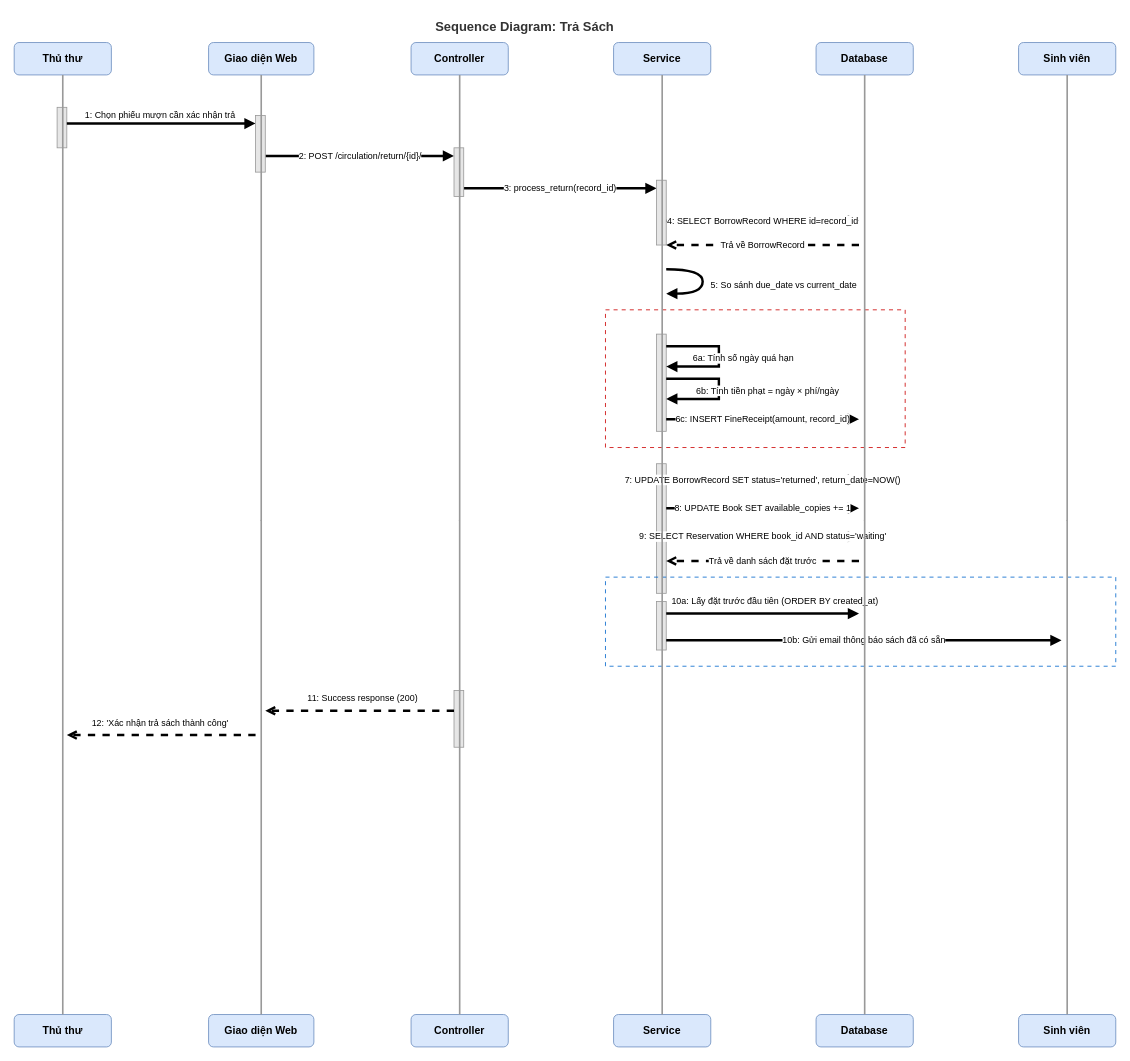
The diagram is 1130 pixels wide and 1061 high, and some of its shapes have lost their labels. The box of each missing label's shape, as (x1, y1, x2, y2) in pixels:
alt [Quá hạn - due_date < current_date]: (605, 309, 905, 448)
opt [Có người đặt trước trong hàng đợi]: (605, 576, 1116, 666)
